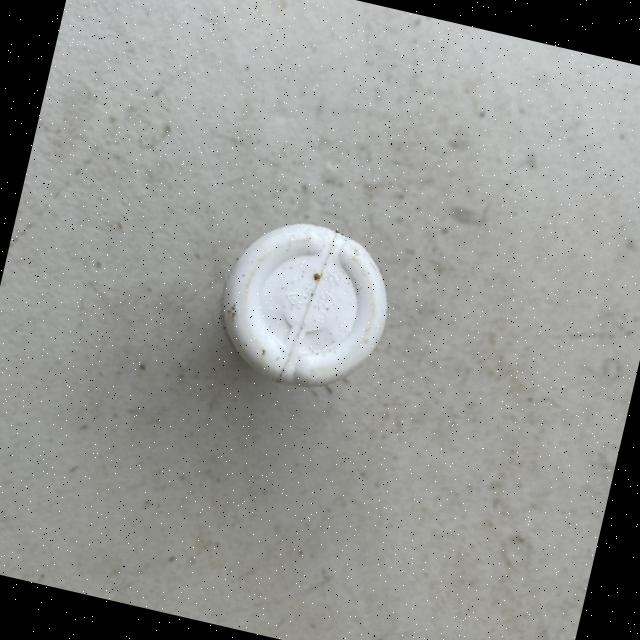styrofoam: (204, 204, 403, 403)
